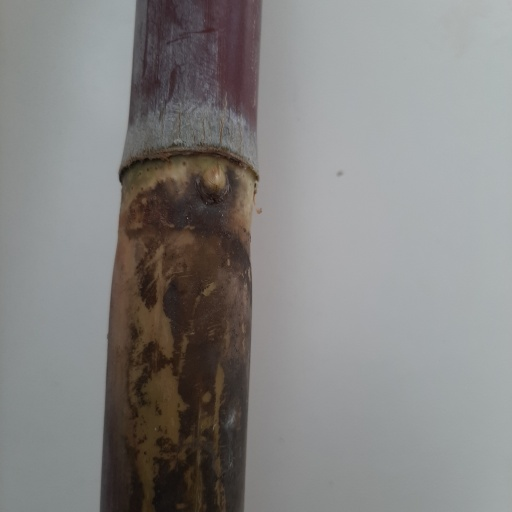Bud: (200, 157, 229, 201)
